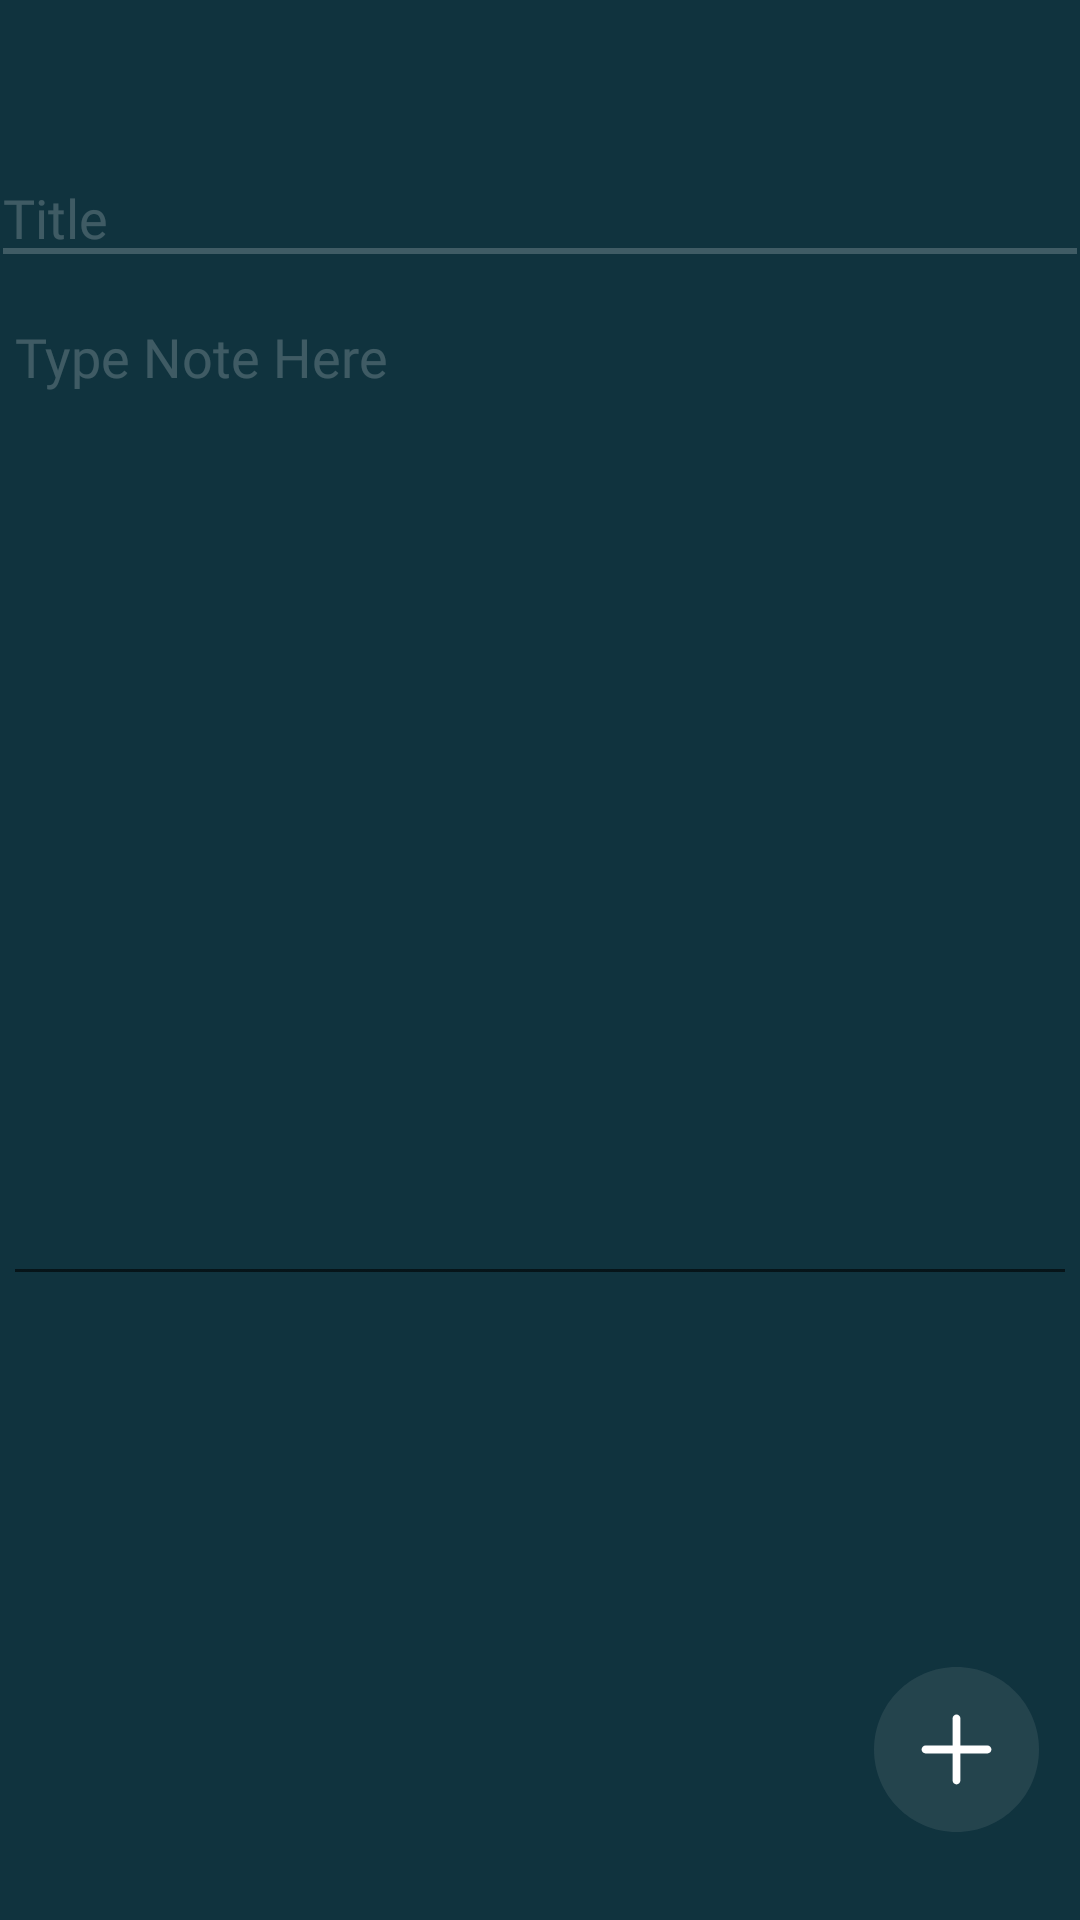

Icons on this 1080x1920 Android screen, each with its box as (x1, y1, x2, y2):
plus: (874, 1667, 1039, 1832)
